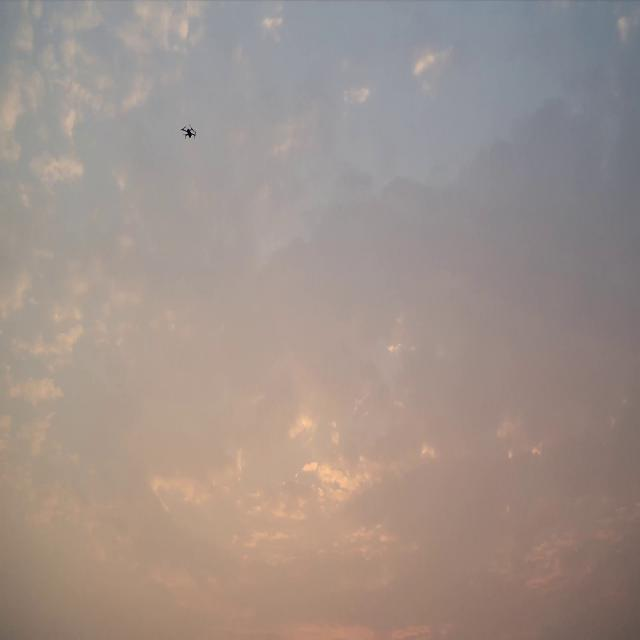UAV: (180, 124, 196, 139)
